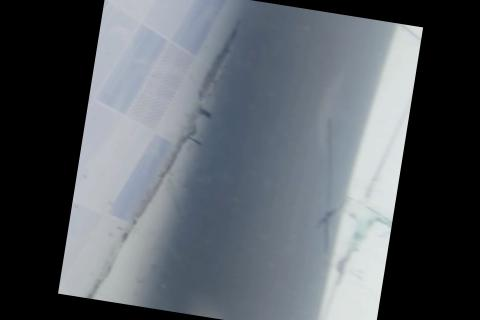keretakan: (303, 115, 352, 254)
